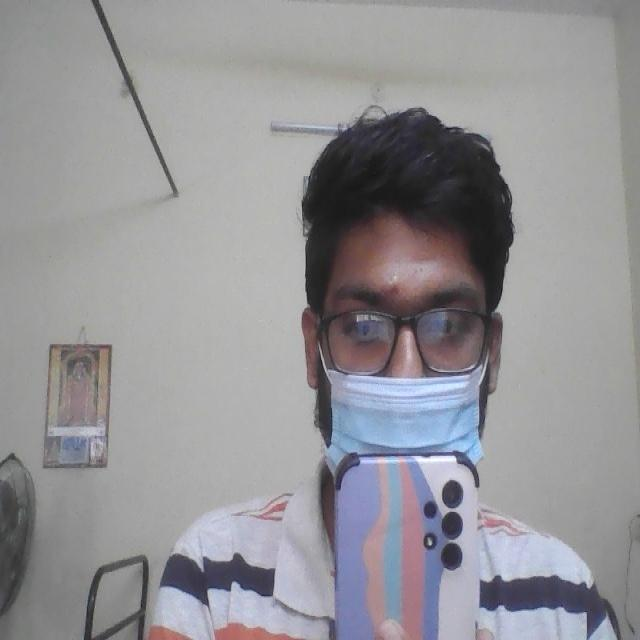Mobile: (336, 449, 485, 640)
